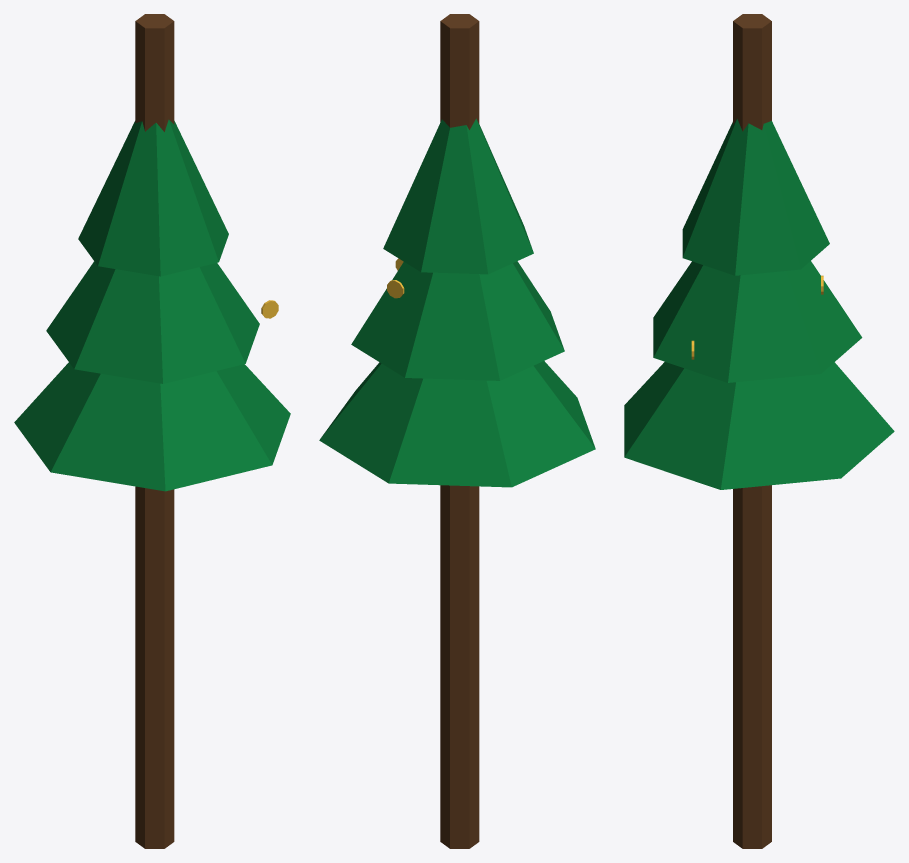
The model's file is Prop_OR_LedgerTree_23.glb.
3 views of the same model, side by side, from view 1: azimuth 30°, elevation 25°; view 2: azimuth 150°, elevation 25°; view 3: azimuth 270°, elevation 25° (orthographic).
Parts seen in each view (by area): view 1: Prop_OR_LedgerTree_23; view 2: Prop_OR_LedgerTree_23; view 3: Prop_OR_LedgerTree_23.
Boxes of the visible parts, x1,y1,x2,y2 form: Prop_OR_LedgerTree_23: [14, 14, 290, 848]; Prop_OR_LedgerTree_23: [319, 14, 595, 848]; Prop_OR_LedgerTree_23: [624, 14, 894, 848].
Bounding box in the file's own units: 2.14 × 7 × 2.09.
